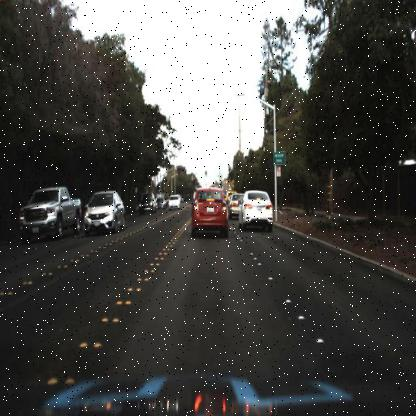car: (17, 185, 81, 240), (81, 187, 126, 240), (189, 184, 231, 239), (84, 190, 126, 237), (238, 188, 275, 230), (135, 191, 159, 219), (227, 188, 247, 220), (166, 193, 181, 211), (155, 194, 167, 213)
